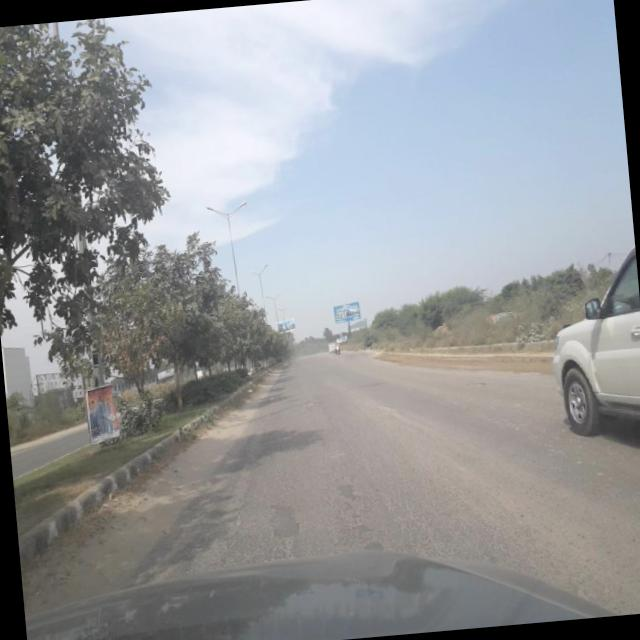crack: (161, 408, 629, 614)
